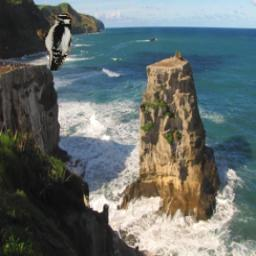Woodpecker: (38, 14, 72, 72)
